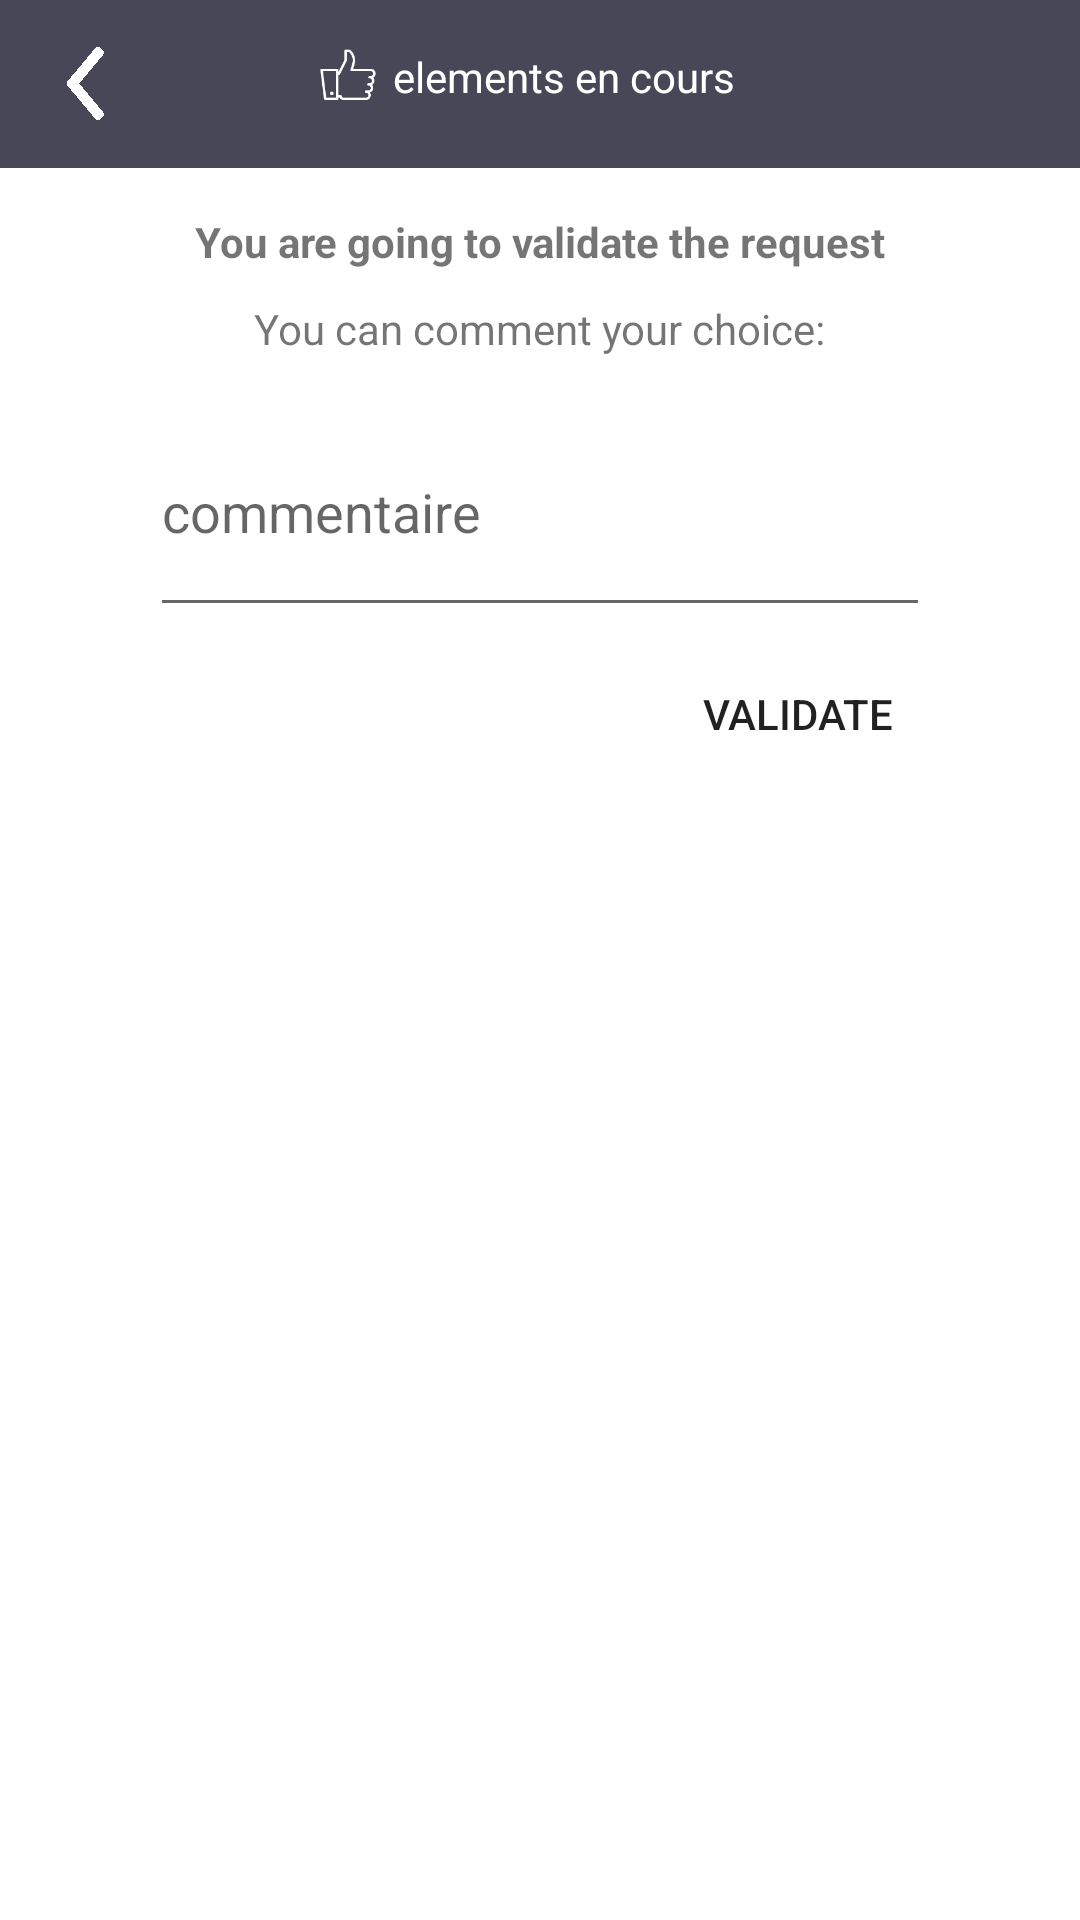

Icons on this 1080px x 1920px Android screen, each with the point to tap as point (x, y):
left arrow: point (85, 83)
thumb blanc: point (348, 74)
